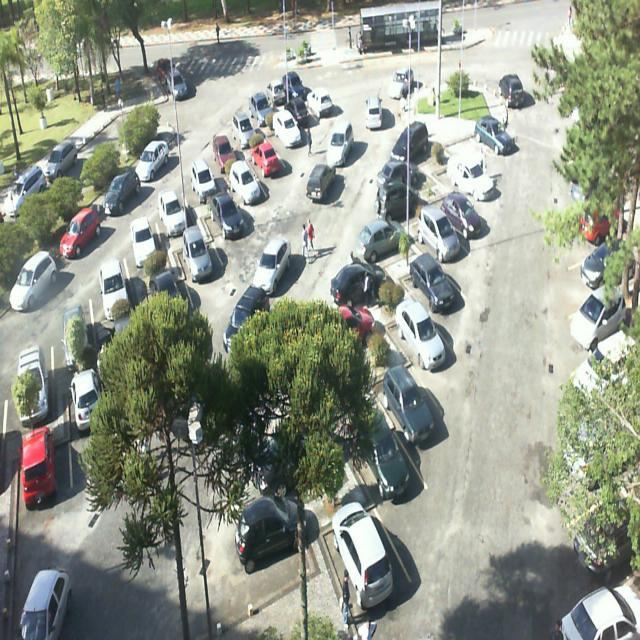space-empty: (437, 147, 489, 200), (449, 122, 492, 168)
space-occupied: (322, 488, 402, 620), (235, 500, 324, 608), (351, 401, 425, 521), (386, 287, 451, 382), (374, 355, 440, 444), (405, 251, 459, 328), (416, 205, 469, 274), (339, 250, 398, 310), (94, 245, 136, 324), (426, 173, 478, 236), (356, 215, 414, 266), (368, 176, 426, 226), (126, 214, 167, 279), (181, 222, 220, 290), (158, 180, 196, 242), (204, 189, 243, 248), (229, 159, 267, 218), (380, 150, 434, 190), (265, 107, 303, 157), (205, 125, 240, 179), (225, 105, 261, 156), (183, 151, 218, 202), (248, 134, 285, 182), (282, 88, 318, 134), (399, 126, 442, 159), (245, 87, 276, 132)
